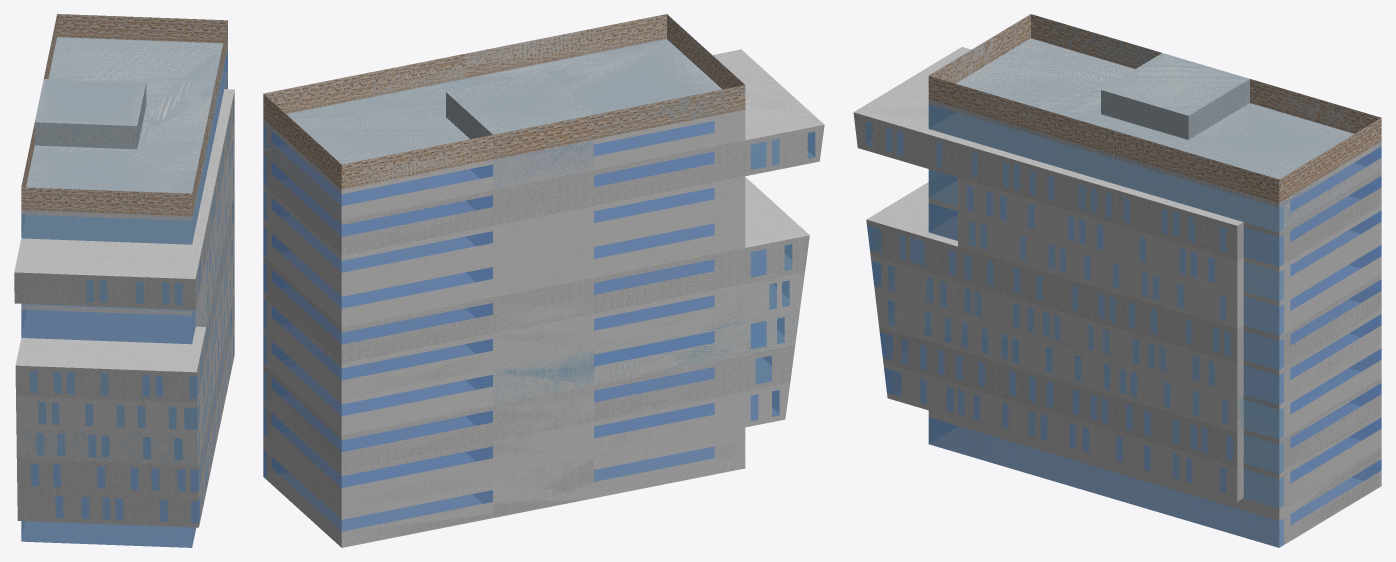
File: BuildingStandAlone.fbx
3 renders of one model, left to right at view 1: azimuth 30°, elevation 25°; view 2: azimuth 150°, elevation 25°; view 3: azimuth 270°, elevation 25°, orthographic. The views are drawn at different scales.
Visible parts, largest first — view 1: Model, Group7, Group5, Group10, Group9, Group8, Group4, Group2, Group3, Group1, Group6; view 2: Model, Group10, Group1, Group5, Group9, Group7, Group8, Group4, Group3, Group2, Group6; view 3: Model, Group7, Group10, Group9, Group8, Group5, Group4, Group3, Group2, Group1, Group6.
Boxes of the visible parts, left/top/right/bottom form: Model: left=21, top=14, right=227, bottom=216; Group7: left=14, top=36, right=234, bottom=278; Group5: left=15, top=157, right=234, bottom=372; Group10: left=14, top=72, right=234, bottom=310; Group9: left=15, top=190, right=234, bottom=403; Group8: left=16, top=223, right=234, bottom=434; Group4: left=16, top=257, right=234, bottom=465; Group2: left=17, top=323, right=234, bottom=527; Group3: left=17, top=290, right=234, bottom=496; Group1: left=21, top=521, right=196, bottom=547; Group6: left=21, top=124, right=234, bottom=310; Model: left=263, top=14, right=745, bottom=189; Group10: left=263, top=125, right=824, bottom=255; Group1: left=263, top=427, right=745, bottom=547; Group5: left=263, top=177, right=809, bottom=327; Group9: left=263, top=235, right=809, bottom=363; Group7: left=263, top=38, right=824, bottom=219; Group8: left=263, top=272, right=804, bottom=399; Group4: left=263, top=309, right=799, bottom=434; Group3: left=263, top=346, right=794, bottom=470; Group2: left=263, top=383, right=790, bottom=506; Group6: left=263, top=176, right=745, bottom=291; Model: left=928, top=14, right=1381, bottom=203; Group7: left=854, top=38, right=1381, bottom=232; Group10: left=853, top=112, right=1381, bottom=266; Group9: left=866, top=219, right=1381, bottom=370; Group8: left=870, top=255, right=1381, bottom=404; Group5: left=866, top=182, right=1381, bottom=335; Group4: left=875, top=291, right=1381, bottom=439; Group3: left=879, top=327, right=1381, bottom=473; Group2: left=883, top=362, right=1381, bottom=508; Group1: left=928, top=410, right=1381, bottom=547; Group6: left=928, top=169, right=1381, bottom=301.
Size of the model in its own units: 49321 by 45593 by 59211.
